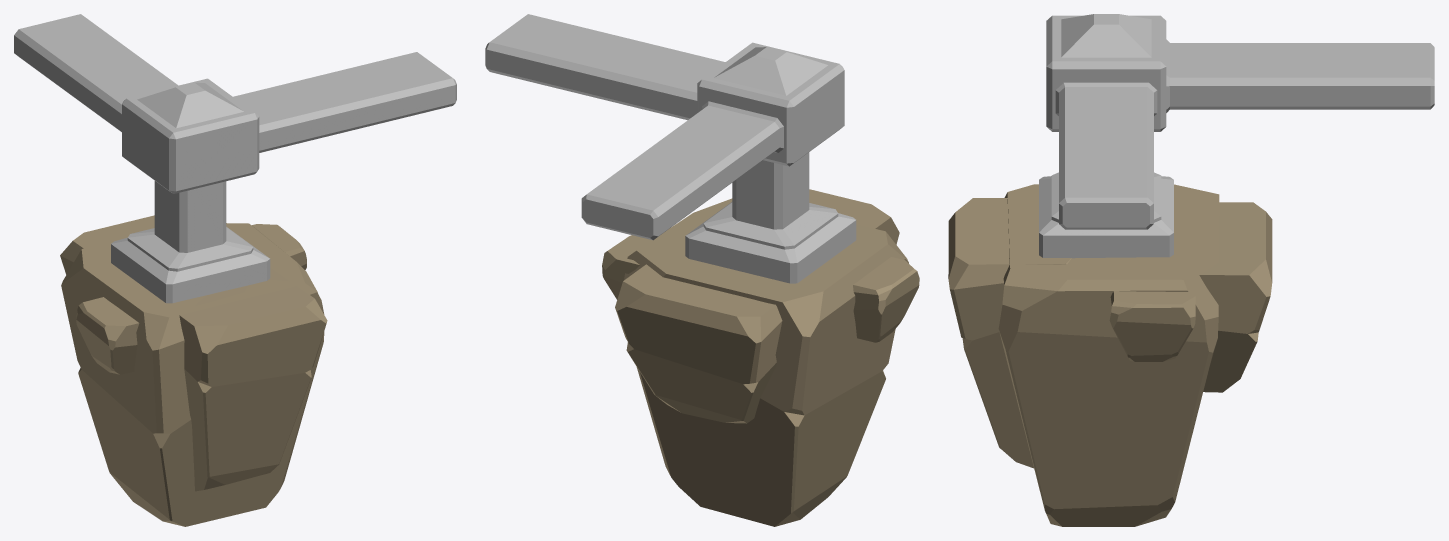
The model's file is LowStoneGuardrailTurn.fbx.
3 views of the same model, side by side, from view 1: azimuth 30°, elevation 25°; view 2: azimuth 150°, elevation 25°; view 3: azimuth 270°, elevation 25° (orthographic). The views are drawn at different scales.
Visible parts, largest first — view 1: handrailturn; view 2: handrailturn; view 3: handrailturn.
Boxes of the visible parts, x1,y1,x2,y2 form: handrailturn: [14, 14, 456, 526]; handrailturn: [485, 14, 919, 526]; handrailturn: [948, 14, 1434, 526].
Size of the model in its own units: 434 by 478 by 442.
